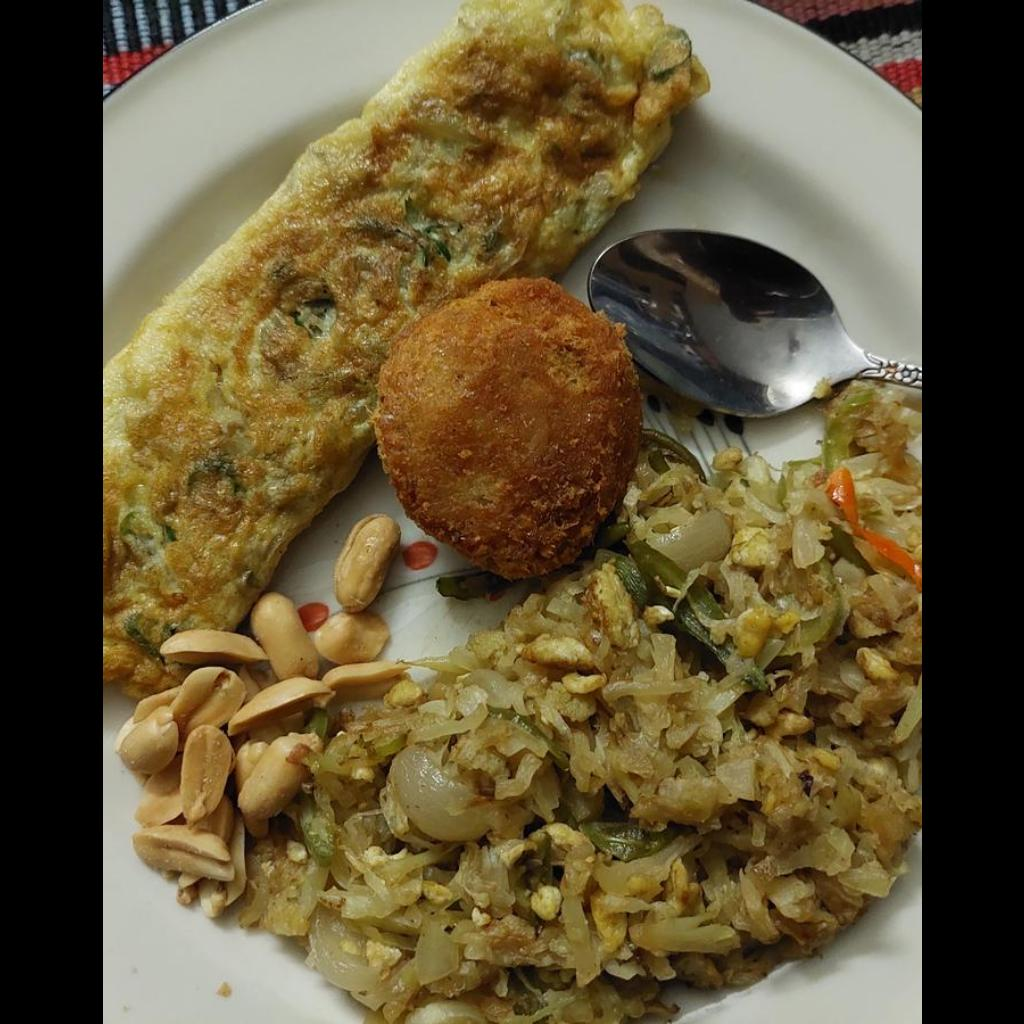badam: (119, 514, 407, 921)
egg-poached: (106, 1, 712, 691)
kabab: (378, 282, 638, 575)
vaji: (242, 385, 920, 1022)
